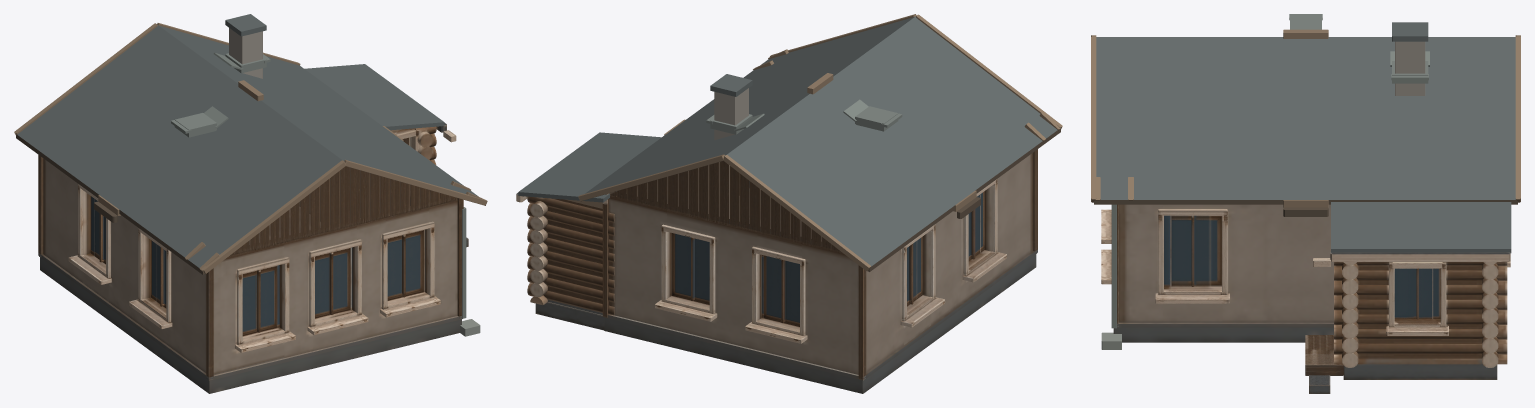
The model's file is neighbor-house-b-pbr-v2.glb.
3 renders of one model, left to right at view 1: azimuth 30°, elevation 25°; view 2: azimuth 150°, elevation 25°; view 3: azimuth 270°, elevation 25°, orthographic. The views are drawn at different scales.
Visible parts, largest first — view 1: VariantB_PlasterAnnex_Dwelling_Roof_LOD0, VariantB_PlasterAnnex_Dwelling_Street_Wall_LOD0, VariantB_PlasterAnnex_Dwelling_Left_Wall_LOD0, VariantB_PlasterAnnex_Dwelling_Front_BoardedGable_LOD0, VariantB_PlasterAnnex_Dwelling_Foundation_LOD0, VariantB_PlasterAnnex_Dwelling_SeniRoof_LOD0, VariantB_PlasterAnnex_Dwelling_FootingCap_LOD0, VariantB_PlasterAnnex_Dwelling_Street_Window2_Recess_LOD0, VariantB_PlasterAnnex_Dwelling_Street_Window1_Recess_LOD0, VariantB_PlasterAnnex_Dwelling_Street_Window0_Recess_LOD0, VariantB_PlasterAnnex_Dwelling_Front_VergeLeft_LOD0, VariantB_PlasterAnnex_Dwelling_ChimneyStack_LOD0 (+26 smaller); view 2: VariantB_PlasterAnnex_Dwelling_Roof_LOD0, VariantB_PlasterAnnex_Dwelling_Rear_Wall_LOD0, VariantB_PlasterAnnex_Dwelling_Left_Wall_LOD0, VariantB_PlasterAnnex_Dwelling_Back_BoardedGable_LOD0, VariantB_PlasterAnnex_Dwelling_Foundation_LOD0, VariantB_PlasterAnnex_Dwelling_SeniRear_LogCrown, VariantB_PlasterAnnex_Dwelling_SeniRoof_LOD0, VariantB_PlasterAnnex_Dwelling_FootingCap_LOD0, VariantB_PlasterAnnex_Dwelling_Rear_Window0_Recess_LOD0, VariantB_PlasterAnnex_Dwelling_Rear_Window1_Recess_LOD0, VariantB_PlasterAnnex_Dwelling_SeniRear_Wall_LOD0, VariantB_PlasterAnnex_Dwelling_SeniOuter_LogCrown (+19 smaller); view 3: VariantB_PlasterAnnex_Dwelling_Roof_LOD0, VariantB_PlasterAnnex_Dwelling_Right_Wall_LOD0, VariantB_PlasterAnnex_Dwelling_SeniRoof_LOD0, VariantB_PlasterAnnex_Dwelling_SeniOuter_LogCrown, VariantB_PlasterAnnex_Dwelling_Right_Window0_Recess_LOD0, VariantB_PlasterAnnex_Dwelling_SeniOuter_Wall_LOD0, VariantB_PlasterAnnex_Dwelling_Foundation_LOD0, VariantB_PlasterAnnex_Dwelling_SeniFooting_LOD0, VariantB_PlasterAnnex_Dwelling_SeniOuter_Window0_Recess_LOD0, VariantB_PlasterAnnex_Dwelling_SeniTrough_LOD0, VariantB_PlasterAnnex_Dwelling_SeniRear_LogCrown, VariantB_PlasterAnnex_Dwelling_SeniEntry_LogCrown (+21 smaller).
Boxes of the visible parts, left/top/right/bottom form: VariantB_PlasterAnnex_Dwelling_Roof_LOD0: left=16, top=24, right=485, bottom=274; VariantB_PlasterAnnex_Dwelling_Street_Wall_LOD0: left=213, top=196, right=457, bottom=375; VariantB_PlasterAnnex_Dwelling_Left_Wall_LOD0: left=43, top=158, right=206, bottom=373; VariantB_PlasterAnnex_Dwelling_Front_BoardedGable_LOD0: left=228, top=166, right=457, bottom=257; VariantB_PlasterAnnex_Dwelling_Foundation_LOD0: left=40, top=257, right=461, bottom=393; VariantB_PlasterAnnex_Dwelling_SeniRoof_LOD0: left=304, top=64, right=444, bottom=130; VariantB_PlasterAnnex_Dwelling_FootingCap_LOD0: left=39, top=207, right=462, bottom=380; VariantB_PlasterAnnex_Dwelling_Street_Window2_Recess_LOD0: left=387, top=229, right=424, bottom=300; VariantB_PlasterAnnex_Dwelling_Street_Window1_Recess_LOD0: left=315, top=247, right=352, bottom=318; VariantB_PlasterAnnex_Dwelling_Street_Window0_Recess_LOD0: left=242, top=265, right=279, bottom=336; VariantB_PlasterAnnex_Dwelling_Front_VergeLeft_LOD0: left=201, top=160, right=345, bottom=273; VariantB_PlasterAnnex_Dwelling_ChimneyStack_LOD0: left=229, top=28, right=262, bottom=78; VariantB_PlasterAnnex_Dwelling_Roof_LOD0: left=580, top=16, right=1060, bottom=271; VariantB_PlasterAnnex_Dwelling_Rear_Wall_LOD0: left=609, top=191, right=858, bottom=374; VariantB_PlasterAnnex_Dwelling_Left_Wall_LOD0: left=866, top=153, right=1032, bottom=372; VariantB_PlasterAnnex_Dwelling_Back_BoardedGable_LOD0: left=609, top=161, right=843, bottom=253; VariantB_PlasterAnnex_Dwelling_Foundation_LOD0: left=604, top=254, right=1036, bottom=393; VariantB_PlasterAnnex_Dwelling_SeniRear_LogCrown: left=527, top=196, right=614, bottom=315; VariantB_PlasterAnnex_Dwelling_SeniRoof_LOD0: left=518, top=132, right=661, bottom=202; VariantB_PlasterAnnex_Dwelling_FootingCap_LOD0: left=603, top=203, right=1036, bottom=380; VariantB_PlasterAnnex_Dwelling_Rear_Window0_Recess_LOD0: left=671, top=233, right=709, bottom=304; VariantB_PlasterAnnex_Dwelling_Rear_Window1_Recess_LOD0: left=762, top=255, right=799, bottom=326; VariantB_PlasterAnnex_Dwelling_SeniRear_Wall_LOD0: left=548, top=198, right=602, bottom=314; VariantB_PlasterAnnex_Dwelling_SeniOuter_LogCrown: left=530, top=201, right=547, bottom=305; VariantB_PlasterAnnex_Dwelling_Roof_LOD0: left=1094, top=37, right=1517, bottom=204; VariantB_PlasterAnnex_Dwelling_Right_Wall_LOD0: left=1118, top=204, right=1333, bottom=322; VariantB_PlasterAnnex_Dwelling_SeniRoof_LOD0: left=1331, top=202, right=1511, bottom=252; VariantB_PlasterAnnex_Dwelling_SeniOuter_LogCrown: left=1334, top=262, right=1507, bottom=364; VariantB_PlasterAnnex_Dwelling_Right_Window0_Recess_LOD0: left=1164, top=215, right=1221, bottom=286; VariantB_PlasterAnnex_Dwelling_SeniOuter_Wall_LOD0: left=1358, top=265, right=1481, bottom=358; VariantB_PlasterAnnex_Dwelling_Foundation_LOD0: left=1113, top=327, right=1333, bottom=342; VariantB_PlasterAnnex_Dwelling_SeniFooting_LOD0: left=1343, top=364, right=1497, bottom=379; VariantB_PlasterAnnex_Dwelling_SeniOuter_Window0_Recess_LOD0: left=1394, top=268, right=1440, bottom=318; VariantB_PlasterAnnex_Dwelling_SeniTrough_LOD0: left=1330, top=251, right=1510, bottom=261; VariantB_PlasterAnnex_Dwelling_SeniRear_LogCrown: left=1482, top=262, right=1498, bottom=367; VariantB_PlasterAnnex_Dwelling_SeniEntry_LogCrown: left=1342, top=262, right=1358, bottom=367.
Size of the model in its own units: 8.06 by 4.93 by 7.22.
7 materials, 1 textured.
